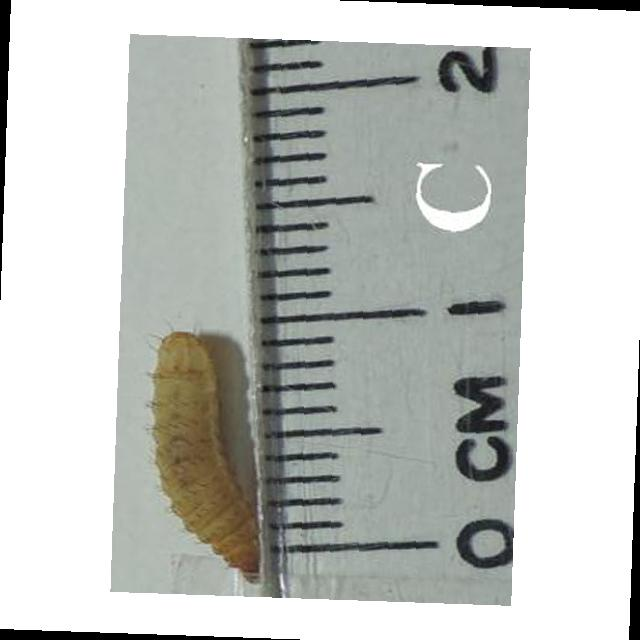Maggot: (150, 325, 263, 583)
